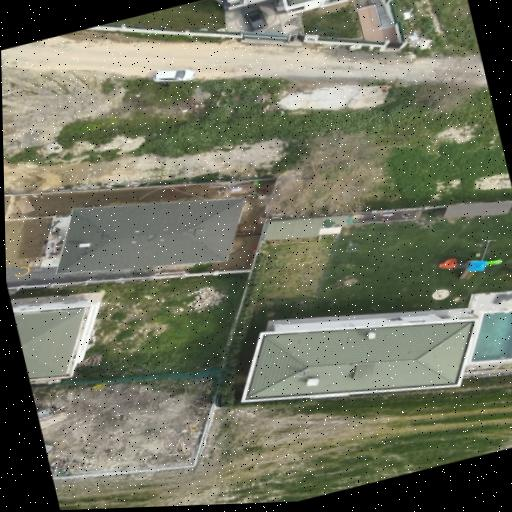car: (153, 68, 195, 81), (245, 8, 267, 29)
